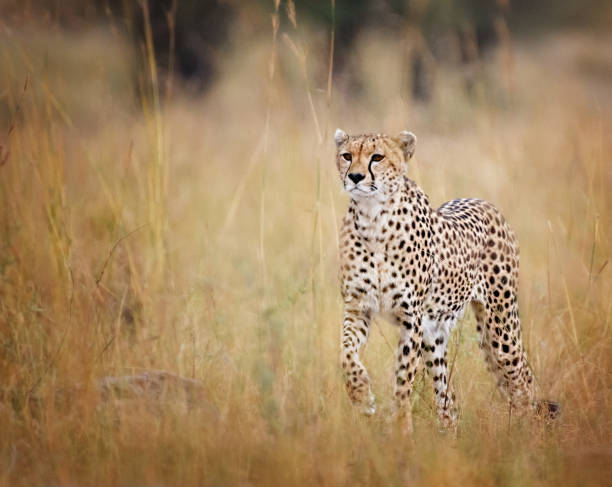cheetah: (327, 114, 422, 209)
